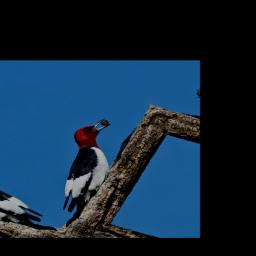Woodpecker: (25, 115, 149, 217)
